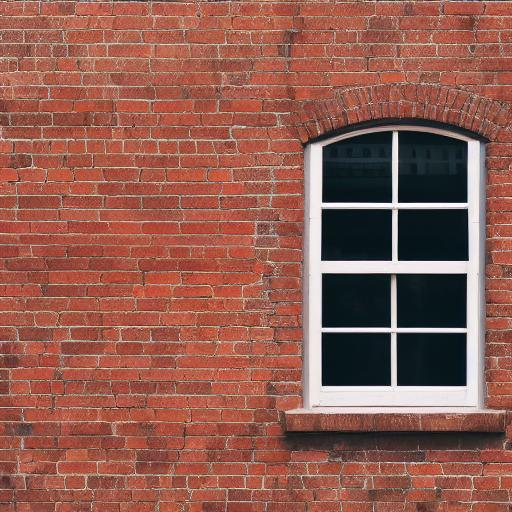Window: (282, 82, 511, 436)
